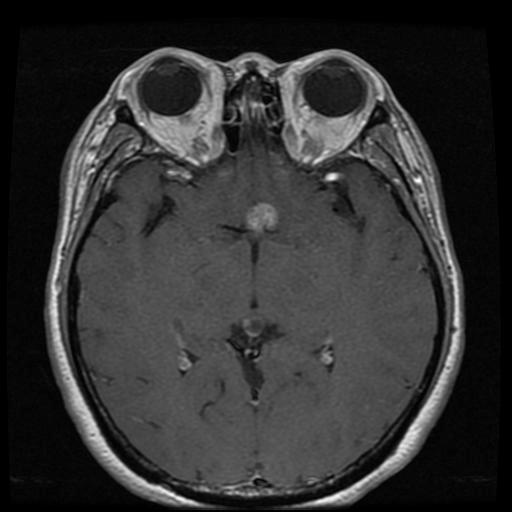Tumour-Pituitary: (237, 198, 282, 246)
